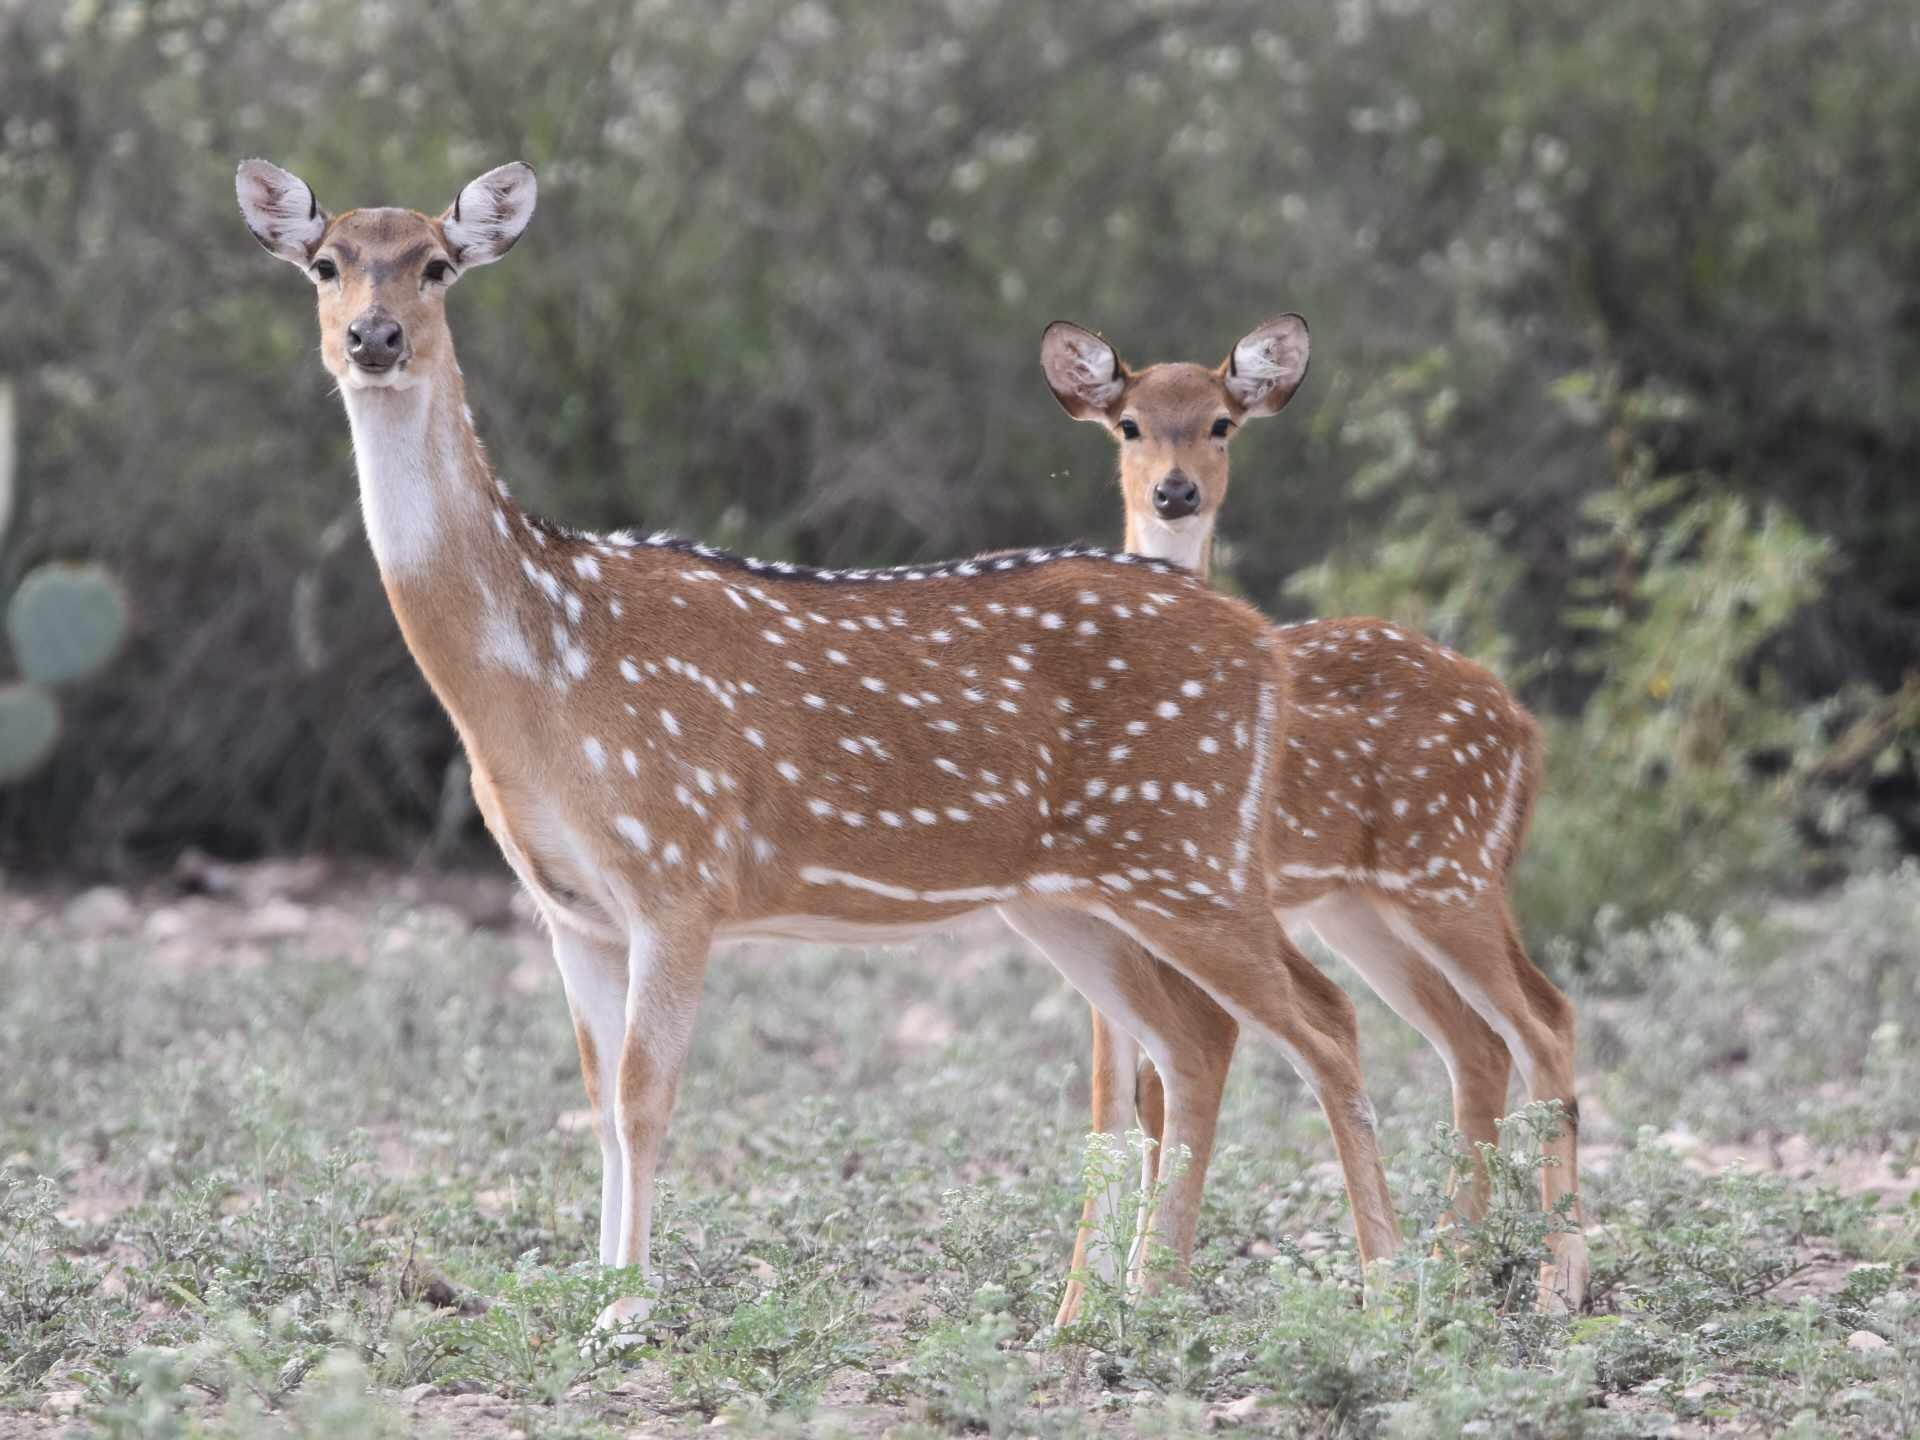Deer: (237, 160, 1394, 1266), (1040, 315, 1587, 1307)
